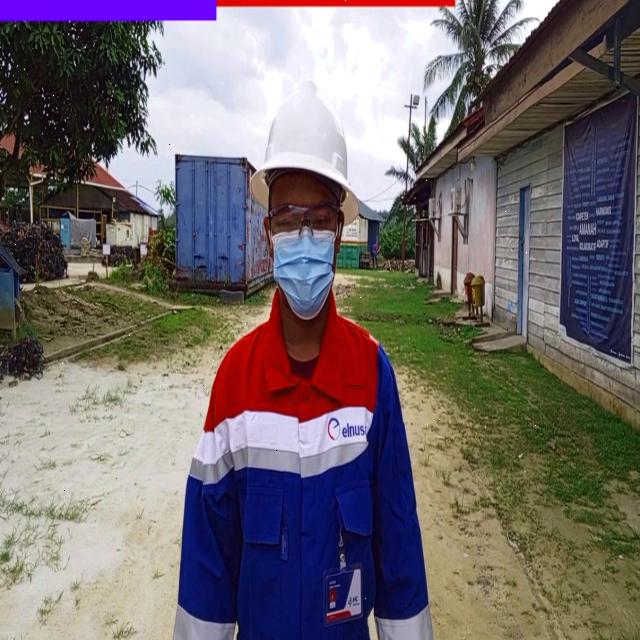Hardhat: (250, 81, 362, 226)
Mask: (272, 235, 334, 318)
Overall Suit: (170, 318, 432, 640)
